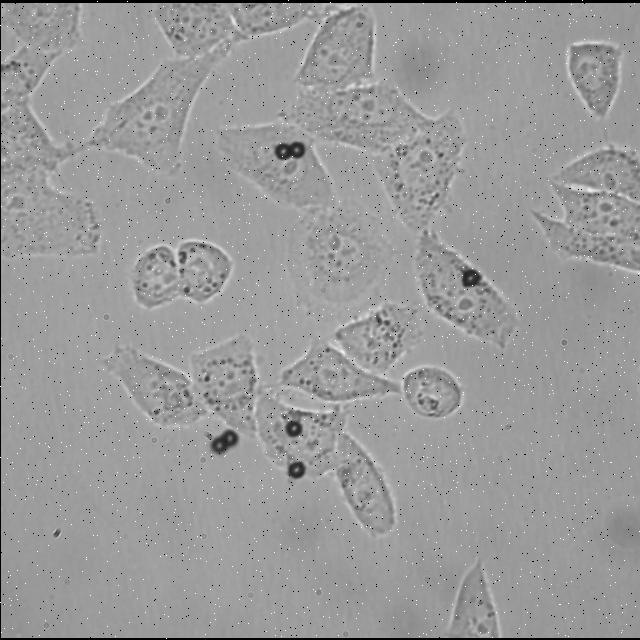microbeads: (456, 269, 482, 289), (208, 438, 228, 457), (218, 428, 236, 448), (288, 459, 304, 479), (284, 421, 302, 437), (274, 144, 290, 160), (290, 142, 304, 160)
